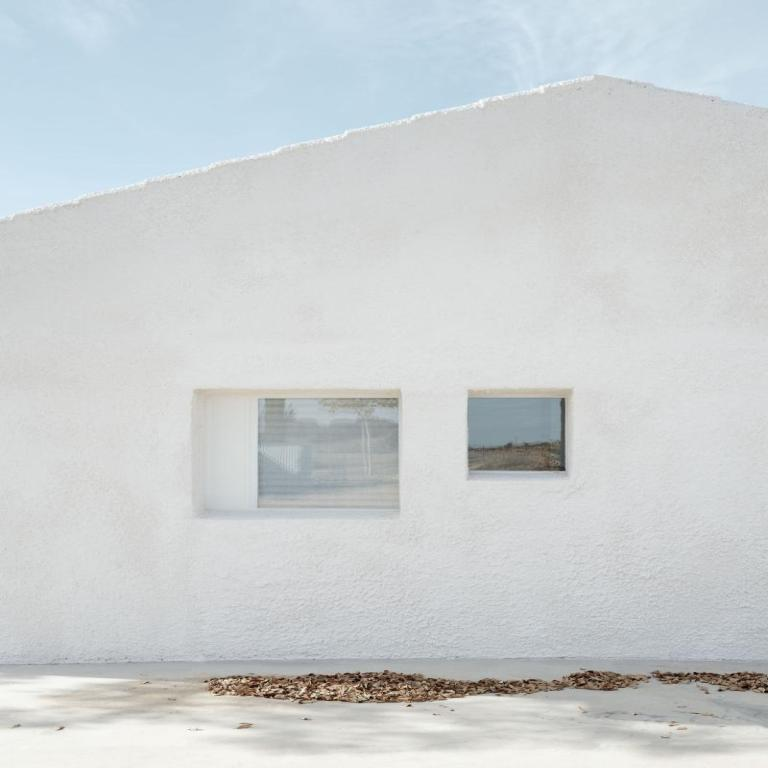white-walls: (11, 149, 757, 637)
